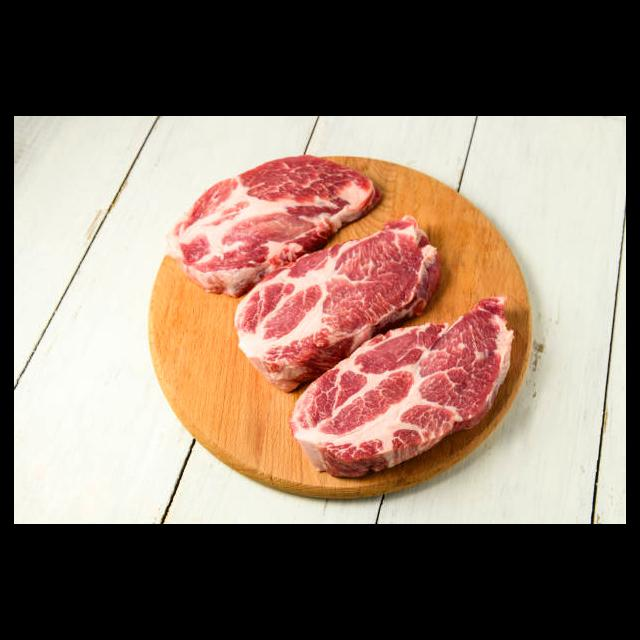beef: (288, 294, 514, 479), (231, 217, 444, 392), (173, 155, 381, 301)
